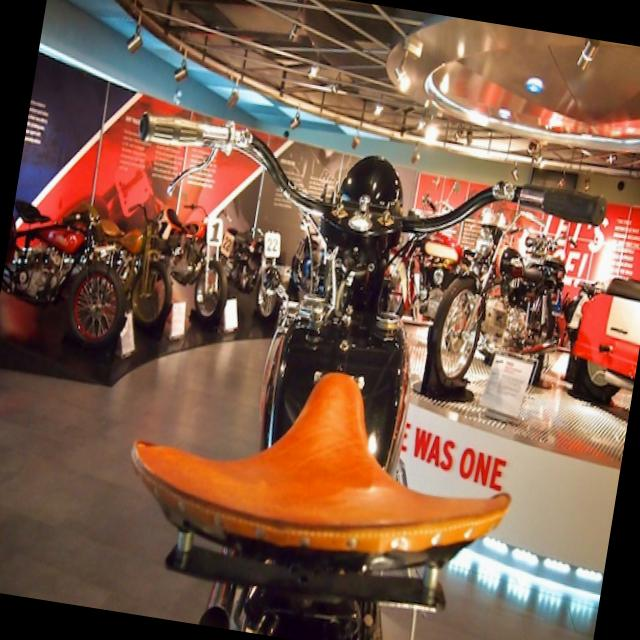Vehicle: (63, 103, 612, 640), (425, 198, 577, 402), (0, 187, 140, 351), (82, 196, 186, 334), (150, 198, 250, 330), (548, 269, 640, 408), (379, 225, 472, 332), (240, 226, 288, 322), (287, 217, 336, 302), (223, 226, 266, 294)
